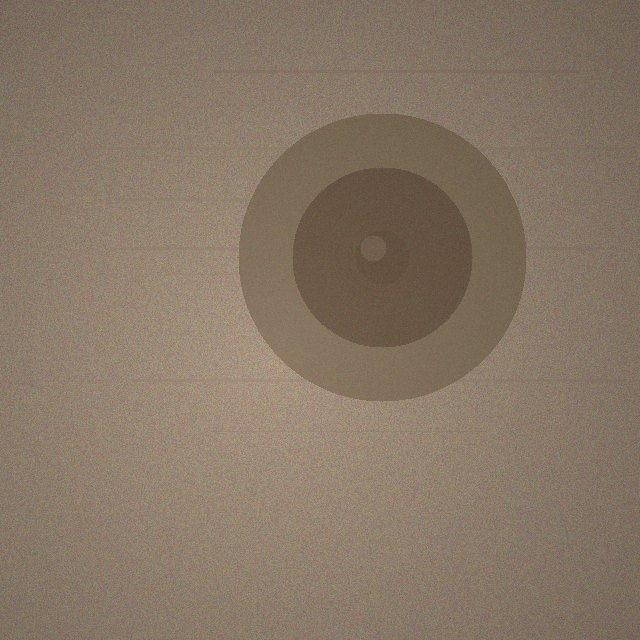good: (238, 113, 526, 401)
